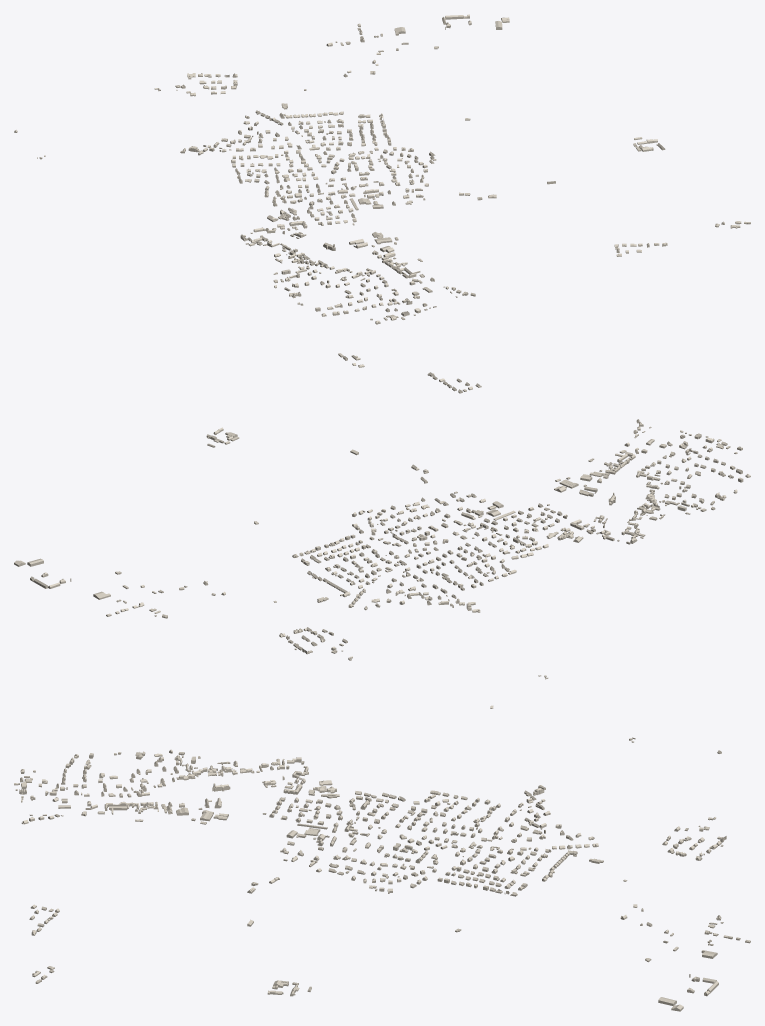
The picture shows the model from 3 angles, top to bottom: view 1: azimuth 30°, elevation 25°; view 2: azimuth 150°, elevation 25°; view 3: azimuth 270°, elevation 25°; orthographic projection. The views are drawn at different scales.
Bounding box in the file's own units: 1614 × 73.19 × 1802.
